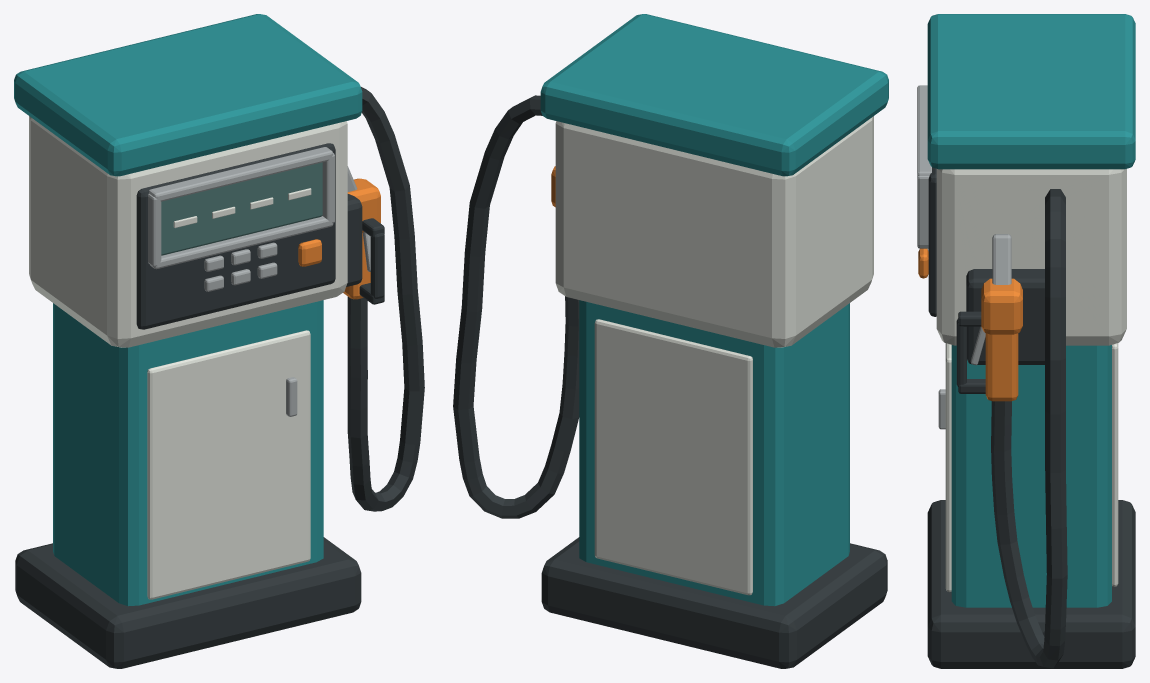
File: NEW_RECOVERY_110_LOD1.glb
3 views of the same model, side by side, from view 1: azimuth 30°, elevation 25°; view 2: azimuth 150°, elevation 25°; view 3: azimuth 270°, elevation 25° (orthographic).
Visible parts, largest first — view 1: Fuel_dispenser; view 2: Fuel_dispenser; view 3: Fuel_dispenser.
Part boxes in pixels (box(x1,y1,x2,y2)): Fuel_dispenser: box(14, 14, 424, 668); Fuel_dispenser: box(453, 14, 888, 668); Fuel_dispenser: box(917, 14, 1135, 668).
Size of the model in its own units: 1.47 by 2 by 0.7355.
